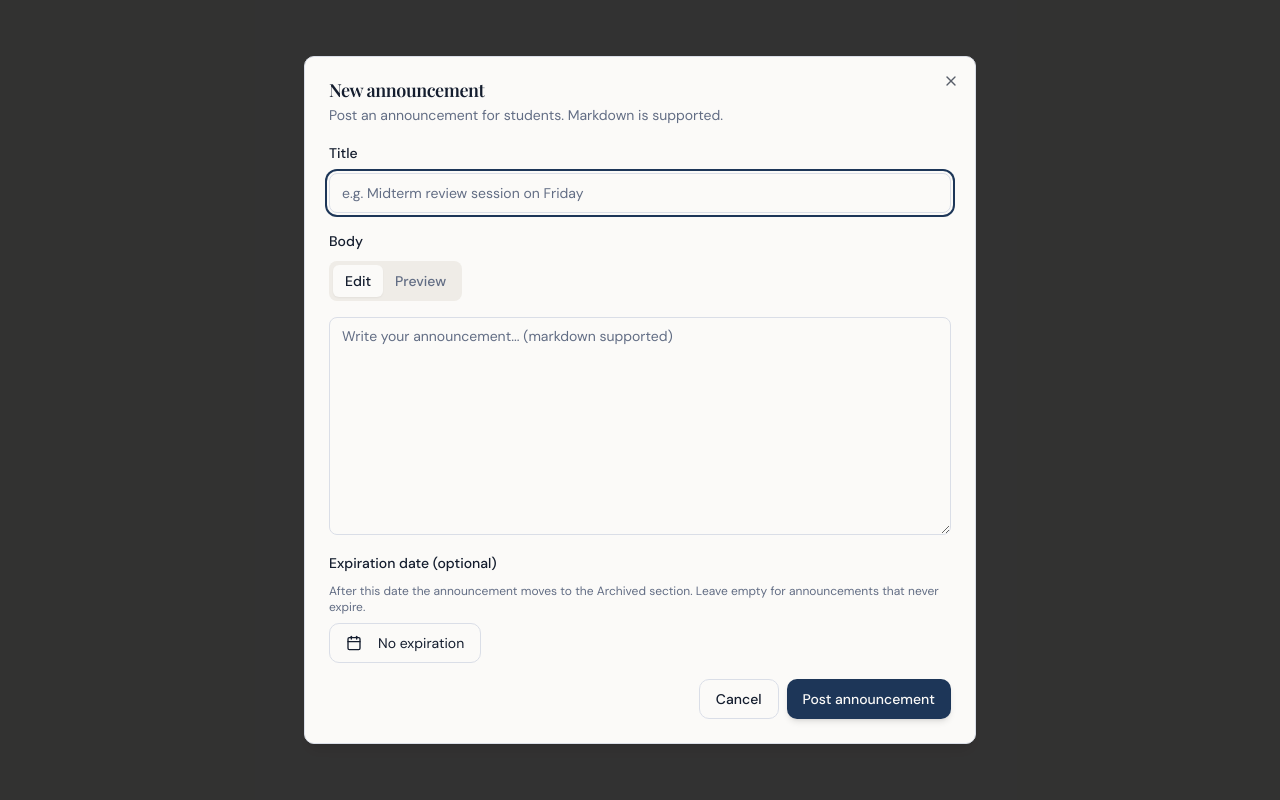
Scenario: AnnouncementEditorDialog › validates required title and body
Click the button "Post announcement".
click(869, 699)  # box [787,679,951,719]
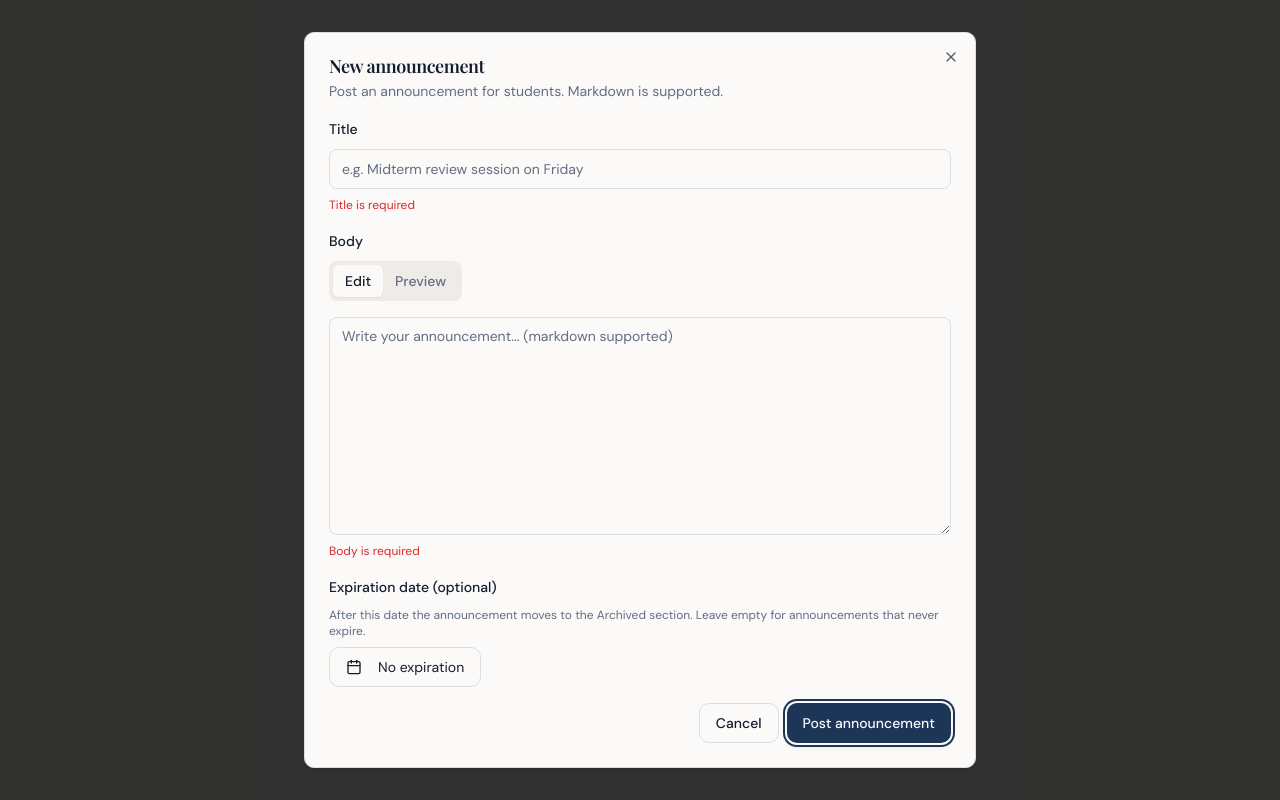
Expected: the text "Title is required" is shown, [329,197,415,213]
